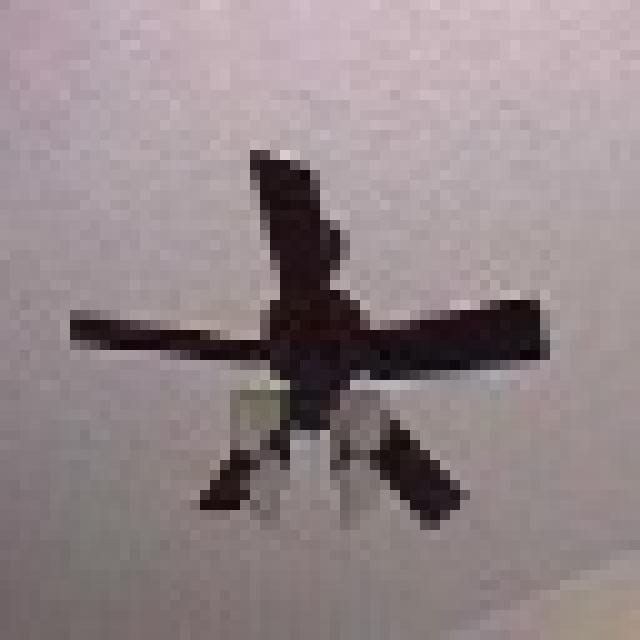fan_off: (82, 155, 554, 535)
